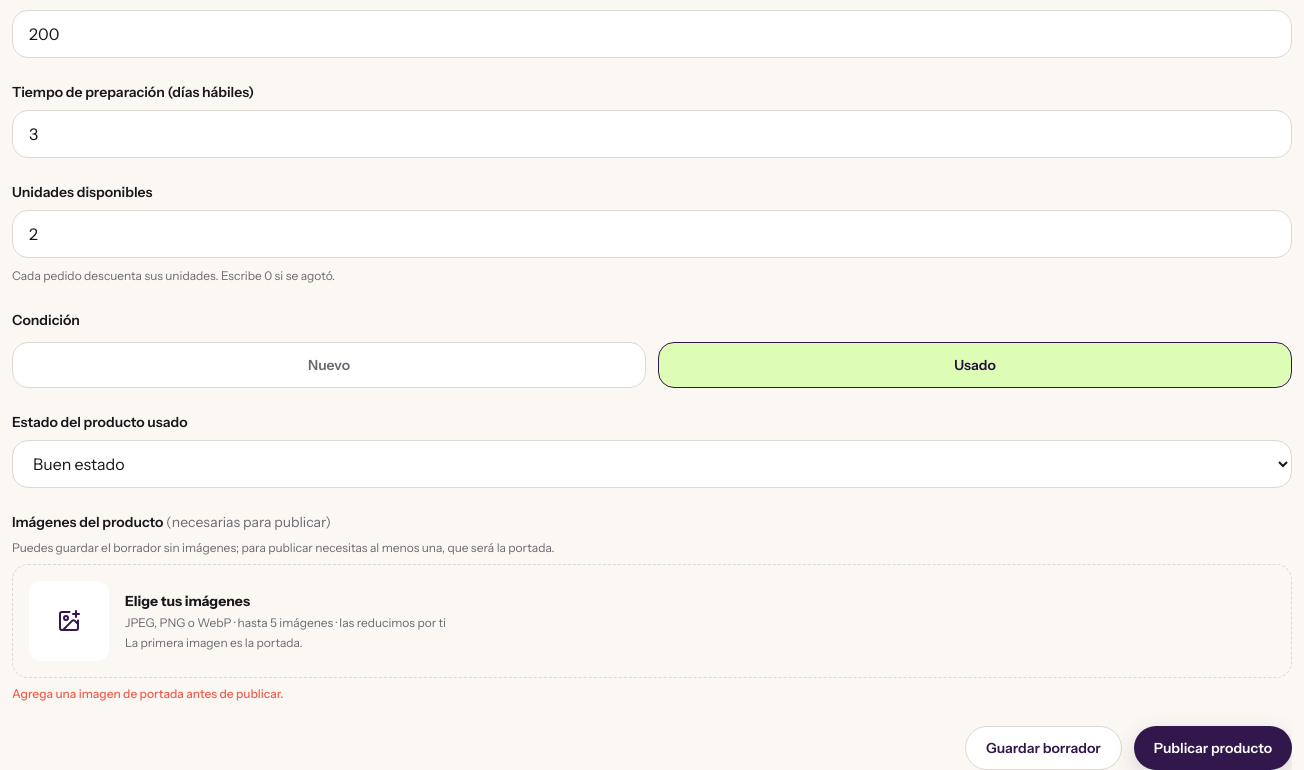
Test case: keeps selected used condition through a failed save and successful retry
(page scrolled)
Select "Aceptable" in the dropdown labelled "Estado del producto usado": (652, 464) [12,440,1292,488]
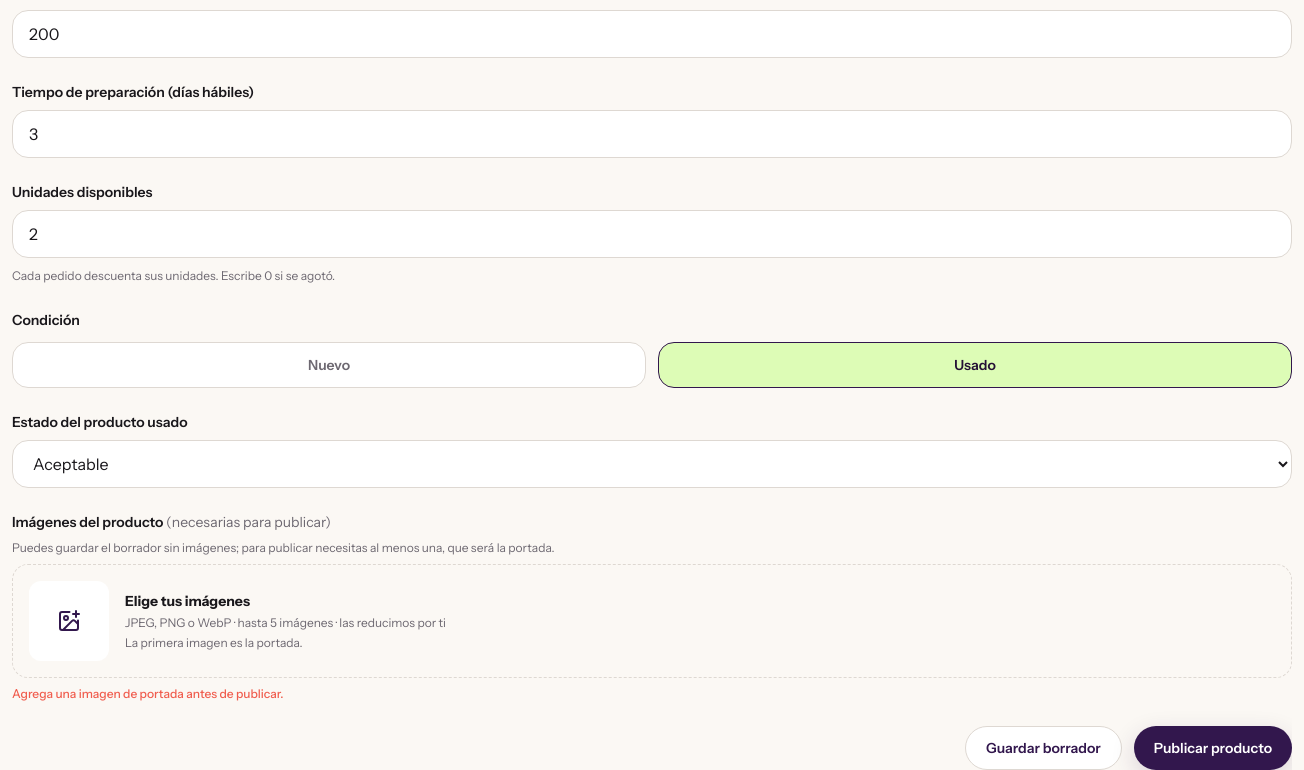
Click the button "Guardar borrador": (1043, 748) [965,726,1122,769]
(page scrolled)
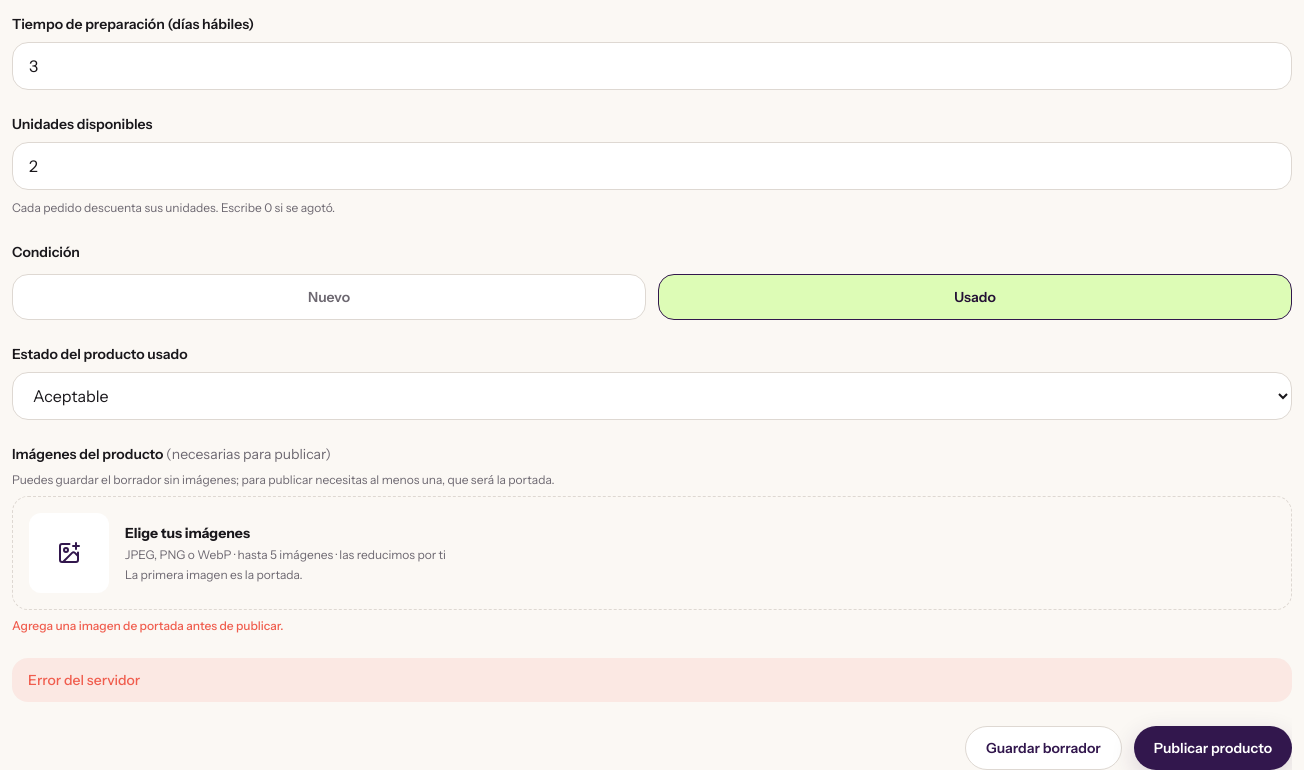
Expected: the text "Error del servidor" is shown, [12,658,1292,702]
Click the button "Guardar borrador": (1043, 748) [965,726,1122,769]
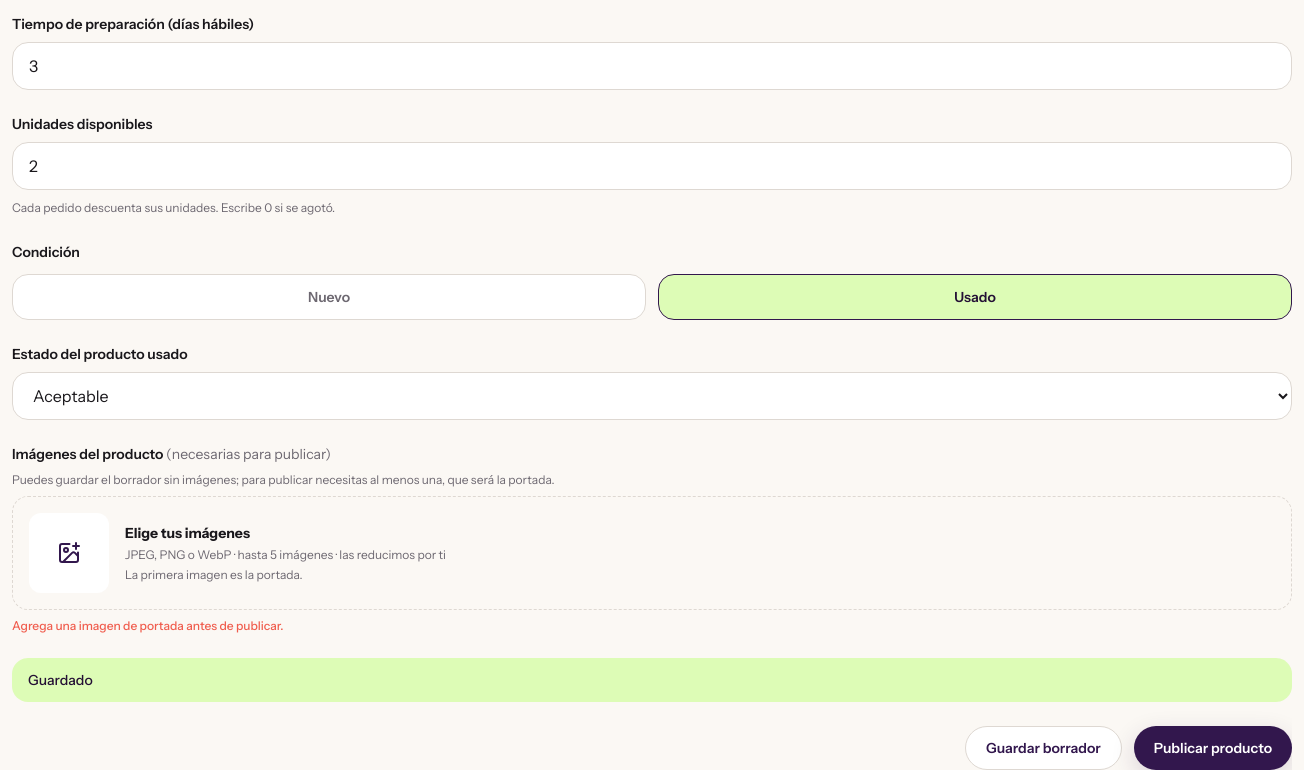
Expected: the text "Guardado" is shown, [12,658,1292,702]
